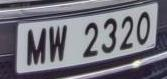0: (135, 11, 152, 45)
2: (80, 20, 101, 59), (117, 12, 137, 51)
3: (100, 15, 119, 56)
M: (24, 25, 50, 71)
W: (47, 23, 71, 66)
